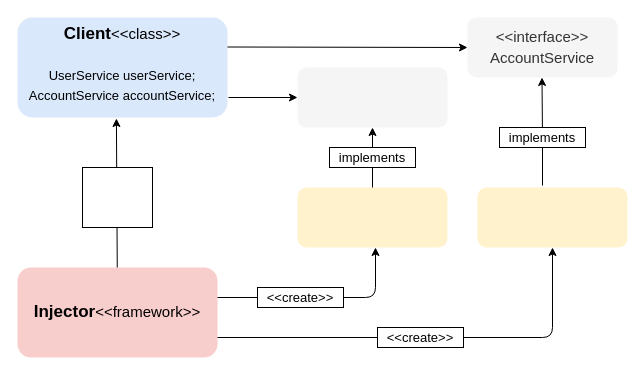
This 644x374 diagram has some shape labels left out. Each missing label, with the centre of its shape:
<<class>> AccountServiceImpl: the point at 552,217
<<class>> UserServiceImpl: the point at 372,217
<<create>> <<inject>>: the point at 117,197
<<interface>> UserService: the point at 372,97
